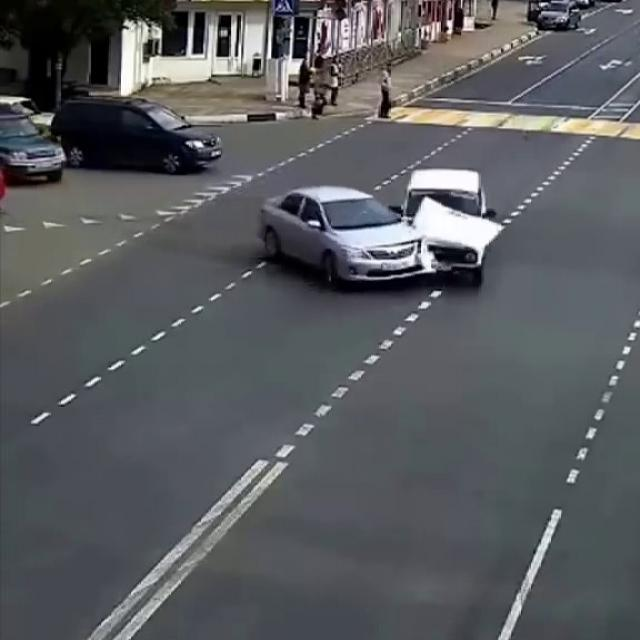accident: (236, 153, 516, 314)
